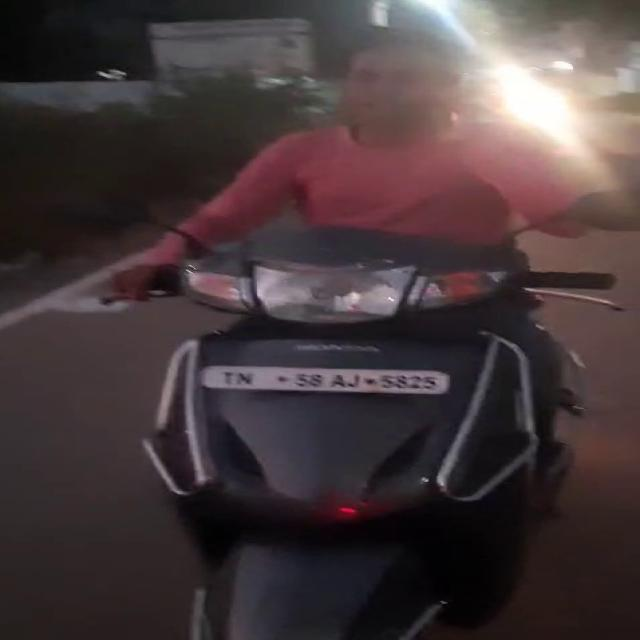USING_MOBILE: (451, 81, 592, 230)
